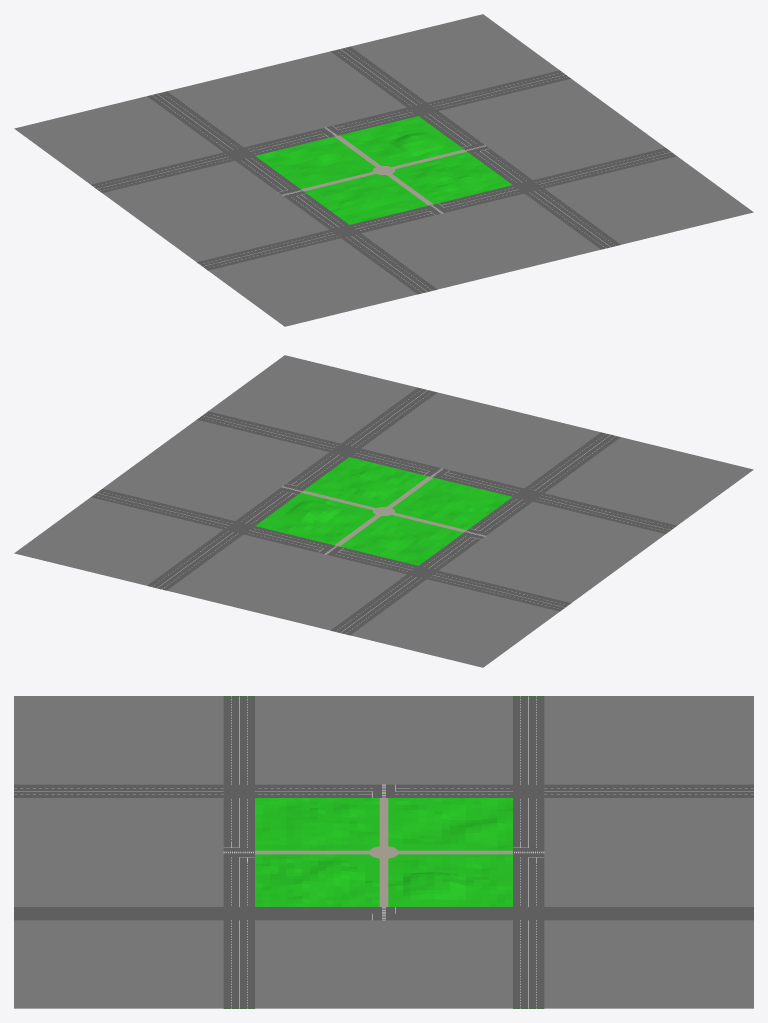
File: terrain.fbx
3 views of the same model, one above another, from view 1: azimuth 30°, elevation 25°; view 2: azimuth 150°, elevation 25°; view 3: azimuth 270°, elevation 25° (orthographic). The views are drawn at different scales.
Parts seen in each view (by area): view 1: Плоскость; view 2: Плоскость; view 3: Плоскость.
Boxes of the visible parts, x1,y1,x2,y2 form: Плоскость: [14, 14, 753, 326]; Плоскость: [14, 355, 753, 667]; Плоскость: [14, 696, 753, 1008].
Size of the model in its own units: 35307 by 422 by 35311.
